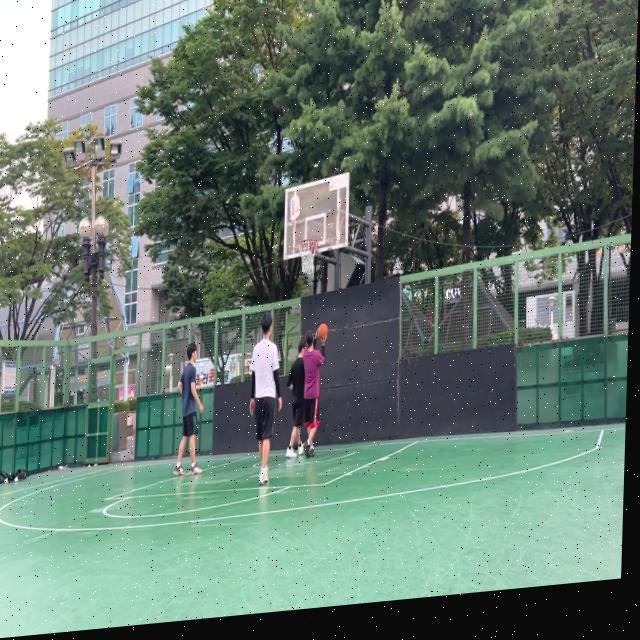basketball: (317, 322, 328, 341)
hoop: (296, 238, 319, 276)
